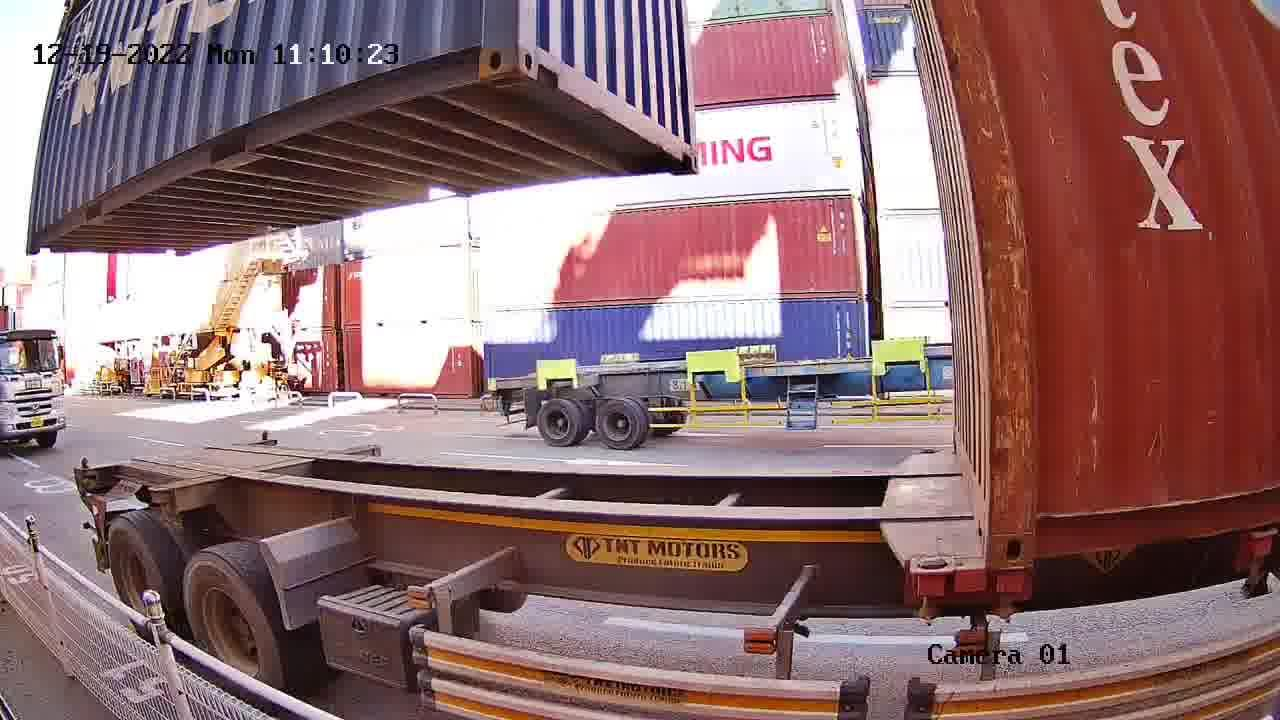Chassis: (885, 450, 953, 564)
Cone: (908, 560, 954, 624), (994, 565, 1034, 622)
Hole_L: (990, 474, 1063, 562), (518, 1, 581, 95)
Hole_R: (440, 2, 518, 91), (666, 99, 699, 173)
Tire: (180, 558, 275, 677), (108, 520, 169, 614)
